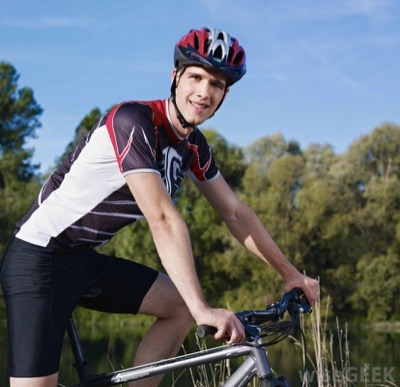helmet: (169, 26, 247, 124)
